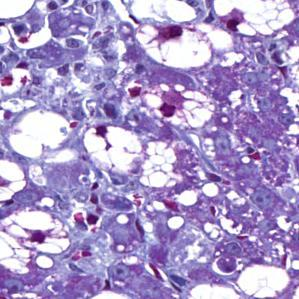ballooning: (80, 123, 184, 190), (131, 22, 234, 75), (2, 208, 74, 278), (209, 5, 295, 39)
